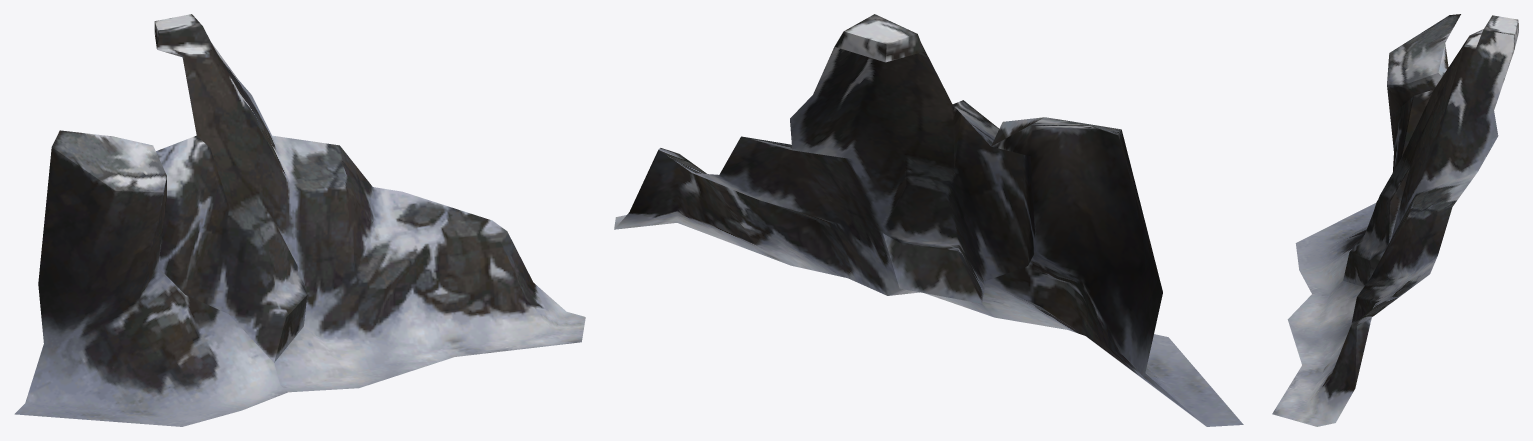
File: 2005_Item_shitou_7.FBX
3 renders of one model, left to right at view 1: azimuth 30°, elevation 25°; view 2: azimuth 150°, elevation 25°; view 3: azimuth 270°, elevation 25°, orthographic. The views are drawn at different scales.
Visible parts, largest first — view 1: 2005_Item_shitou_7; view 2: 2005_Item_shitou_7; view 3: 2005_Item_shitou_7.
Boxes of the visible parts, box(x1,y1,x2,y2) form: 2005_Item_shitou_7: box(14, 14, 585, 426); 2005_Item_shitou_7: box(614, 14, 1243, 426); 2005_Item_shitou_7: box(1272, 14, 1518, 426).
Bounding box in the file's own units: 368 × 197 × 164.
